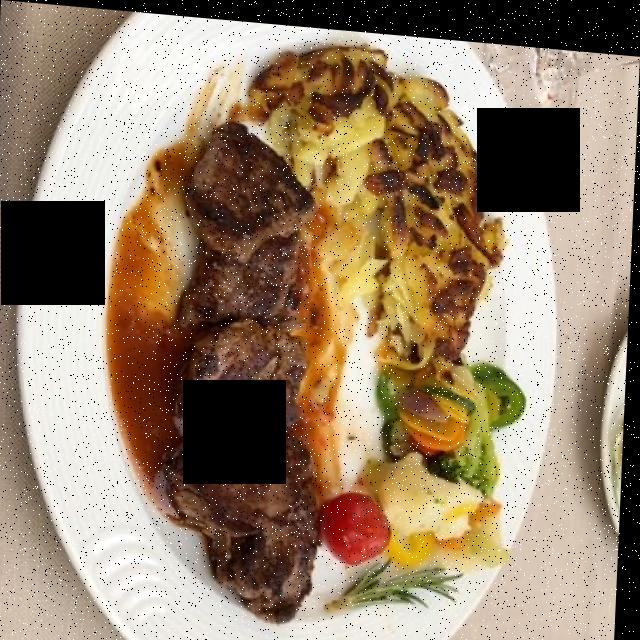beef-filet: (154, 106, 321, 602)
rosti: (235, 40, 517, 359)
sauce-roast: (107, 210, 346, 487)
vegetables: (325, 359, 525, 576)
